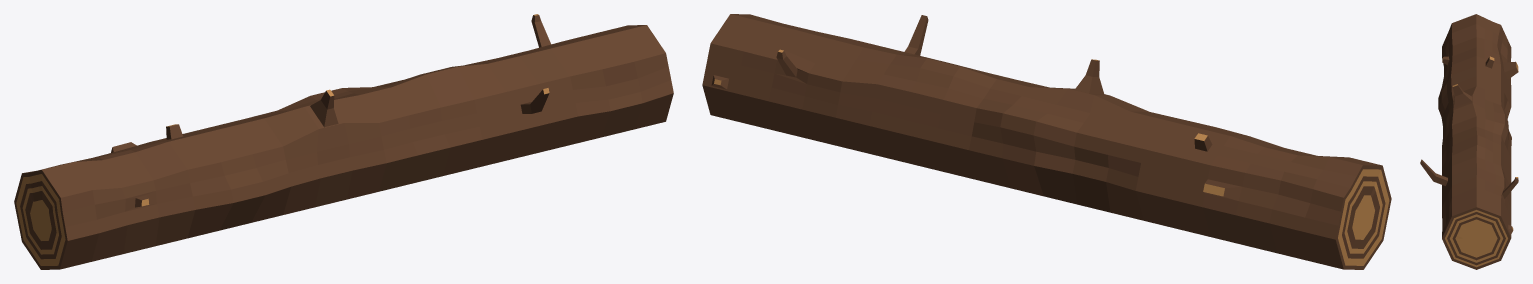
The model's file is Obstacle_Earth_Log.fbx.
3 renders of one model, left to right at view 1: azimuth 30°, elevation 25°; view 2: azimuth 150°, elevation 25°; view 3: azimuth 270°, elevation 25°, orthographic. The views are drawn at different scales.
Parts seen in each view (by area): view 1: EarthLog; view 2: EarthLog; view 3: EarthLog.
Part boxes in pixels (<box>): EarthLog: <box>14,14,673,269</box>; EarthLog: <box>702,14,1391,269</box>; EarthLog: <box>1420,14,1518,269</box>.
Bounding box in the file's own units: 2601 × 508 × 564.
